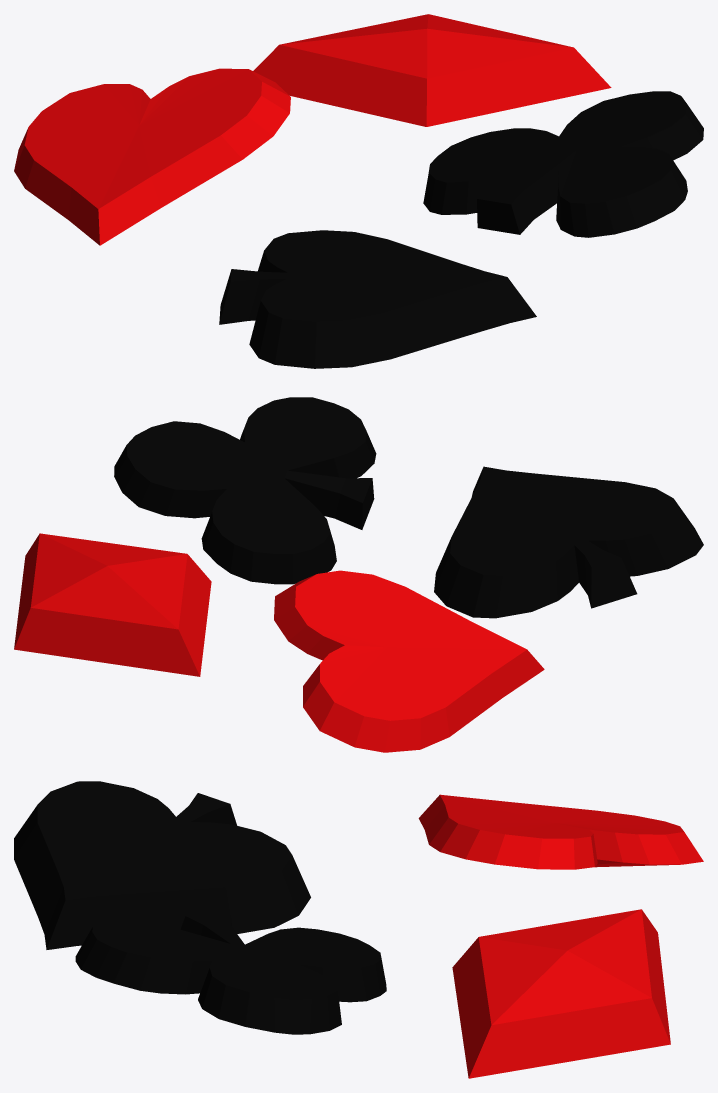
File: Suits.fbx
3 views of the same model, one above another, from view 1: azimuth 30°, elevation 25°; view 2: azimuth 150°, elevation 25°; view 3: azimuth 270°, elevation 25° (orthographic). The views are drawn at different scales.
Parts seen in each view (by area): view 1: Clothes.001; view 2: Clothes.001; view 3: Clothes.001.
Part boxes in pixels (x1,y1,x2,y2): Clothes.001: [14, 14, 703, 368]; Clothes.001: [14, 397, 703, 752]; Clothes.001: [14, 781, 703, 1078].
Size of the model in its own units: 25.46 by 4.43 by 27.34.
